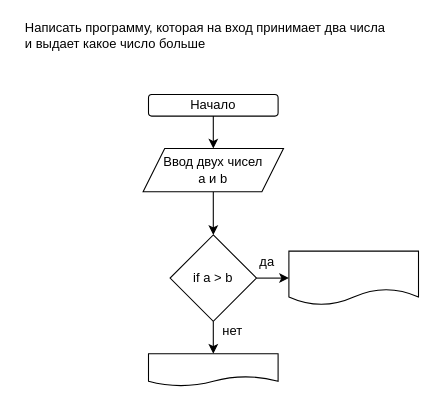
Some shapes in this 447 by 405 pixel diagram are drawn without their labels. The box of each missing label's shape, as (x1, y1, x2, y2) in pixels:
a больше: (288, 250, 418, 305)
b больше: (147, 353, 278, 386)
